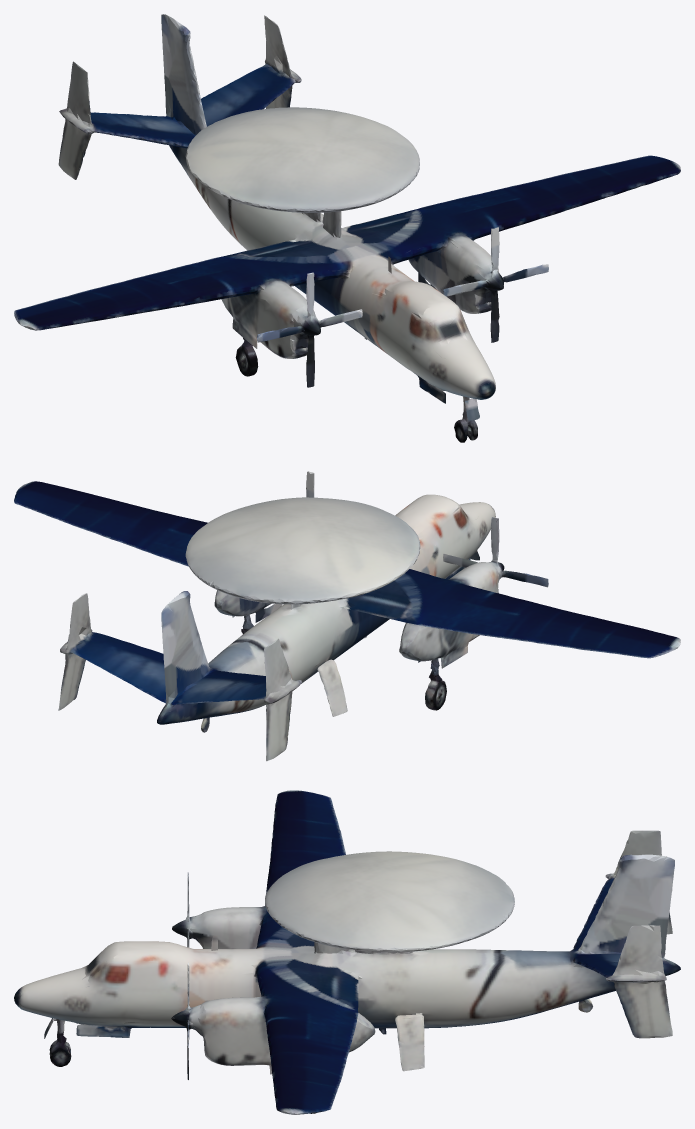
Rendered from KJ-600_Carrier_AEW_AI_Rodin.glb.
The picture shows the model from 3 angles, top to bottom: view 1: azimuth 30°, elevation 25°; view 2: azimuth 150°, elevation 25°; view 3: azimuth 270°, elevation 25°; orthographic projection.
Parts seen in each view (by area): view 1: model; view 2: model; view 3: model.
Boxes of the visible parts, x1,y1,x2,y2 form: model: (14,14,680,442); model: (14,471,680,761); model: (14,790,680,1114).
Bounding box in the file's own units: 1.9 × 0.5812 × 1.66.
Materials: 1 (1 with a texture image).
